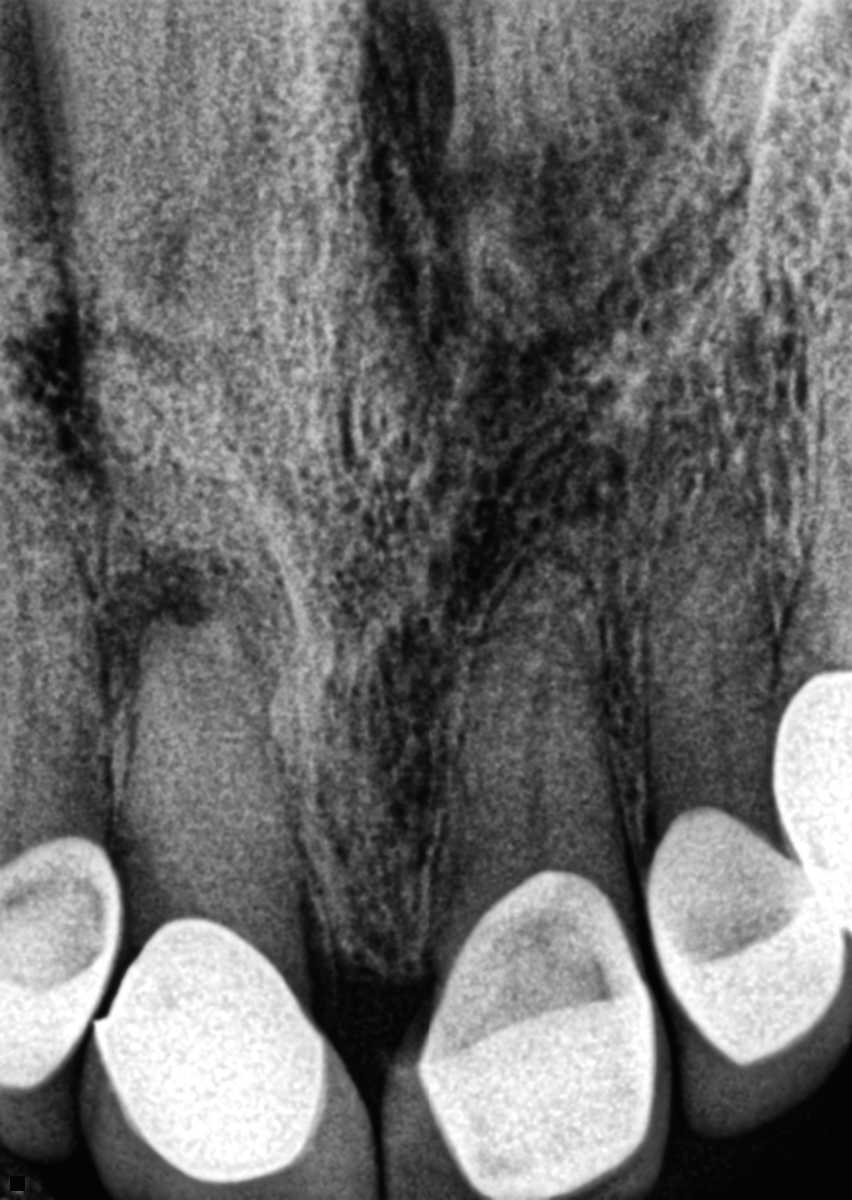Apical Lesion: (93, 532, 292, 685)
Main Canal: (524, 591, 561, 883), (9, 533, 36, 825), (709, 589, 733, 818)
Main Root: (428, 549, 629, 931), (113, 602, 316, 963), (644, 486, 781, 832), (0, 489, 105, 837), (780, 302, 852, 702)
